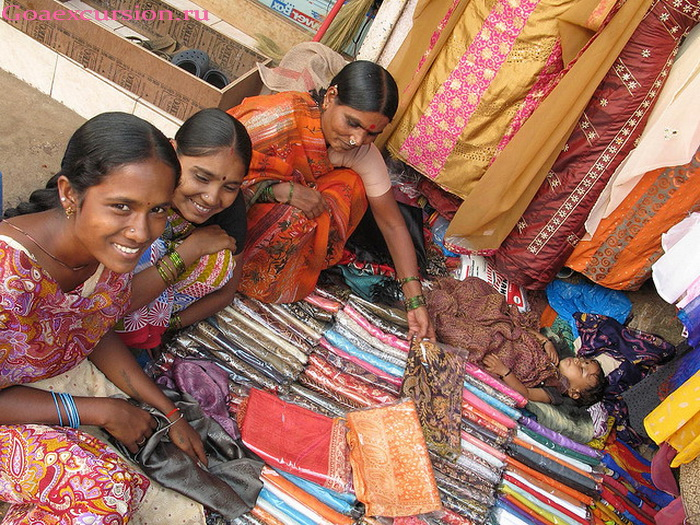Person: (1, 111, 209, 525), (225, 60, 437, 342), (114, 108, 252, 339), (392, 272, 604, 405)
